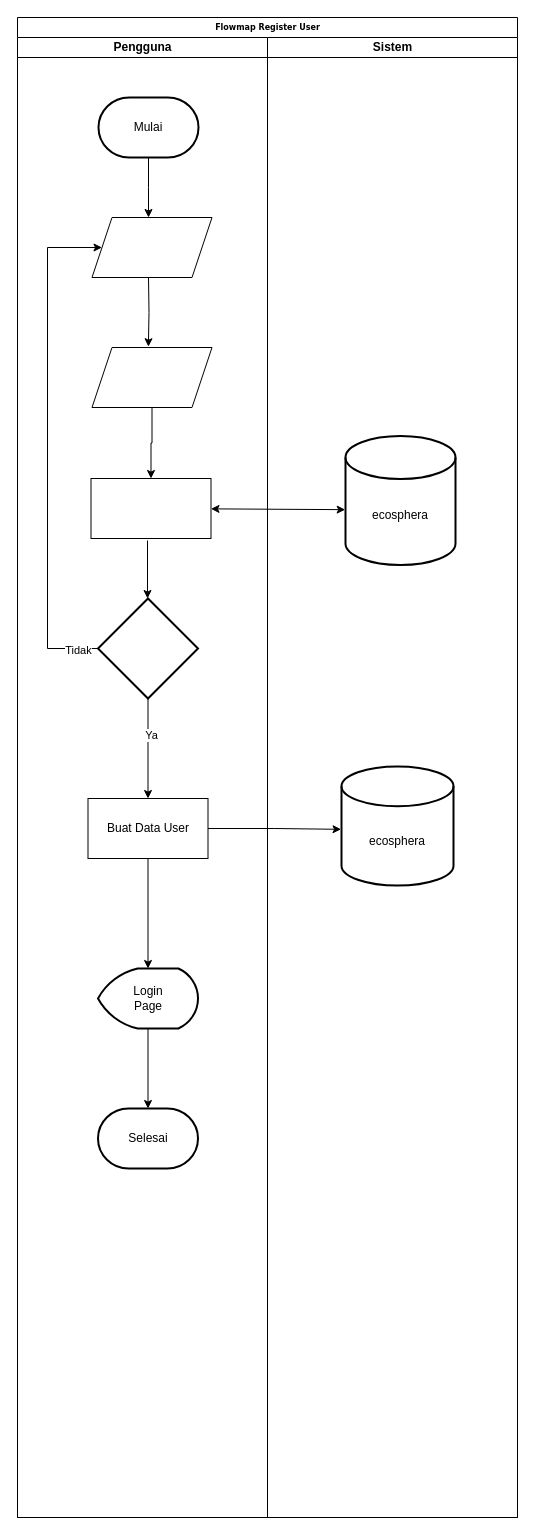
Some shapes in this 535 by 1535 pixel diagram are drawn without their labels. The centre of each missing label's shape, as x and y in pixels:
"Input Password" goes at (x=151, y=377).
"Input Username" goes at (x=151, y=247).
"Username Unique" goes at (x=147, y=648).
"Verifikasi Username Unique" goes at (x=150, y=508).
